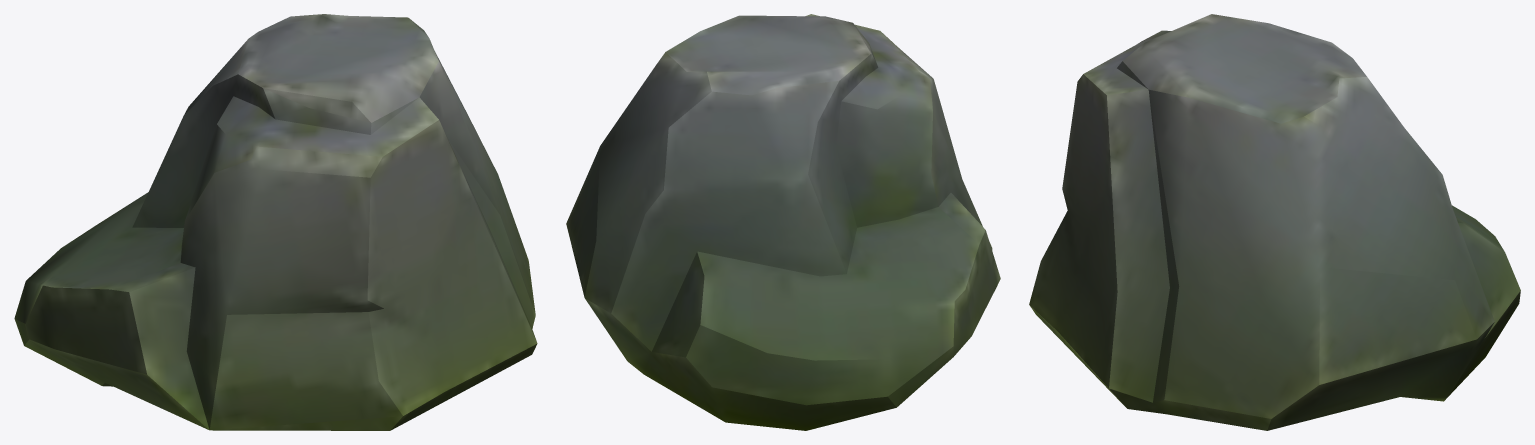
Rendered from rock_granite_b.glb.
3 views of the same model, side by side, from view 1: azimuth 30°, elevation 25°; view 2: azimuth 150°, elevation 25°; view 3: azimuth 270°, elevation 25° (orthographic). The views are drawn at different scales.
Parts seen in each view (by area): view 1: Rock_Medium_1; view 2: Rock_Medium_1; view 3: Rock_Medium_1.
Boxes of the visible parts, left/top/right/bottom form: Rock_Medium_1: left=14, top=14, right=537, bottom=430; Rock_Medium_1: left=566, top=14, right=1000, bottom=430; Rock_Medium_1: left=1029, top=14, right=1520, bottom=430.
Bounding box in the file's own units: 3.23 × 2.26 × 2.99.
Materials: 1 (1 with a texture image).
